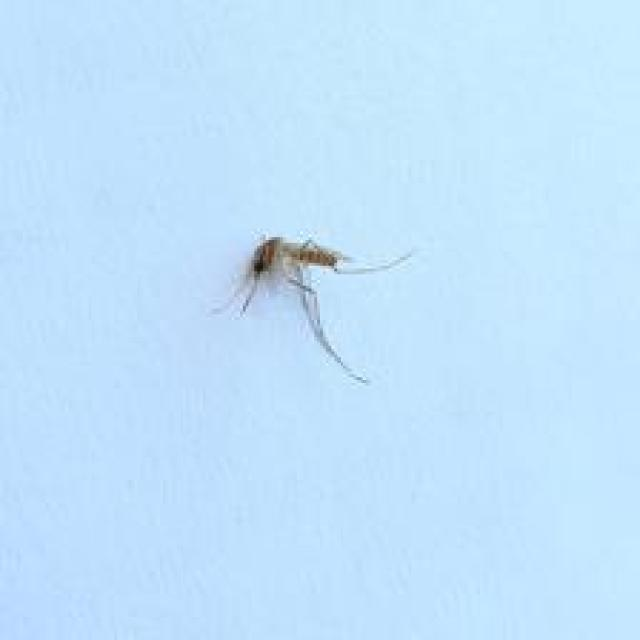Culex: (212, 231, 414, 386)
